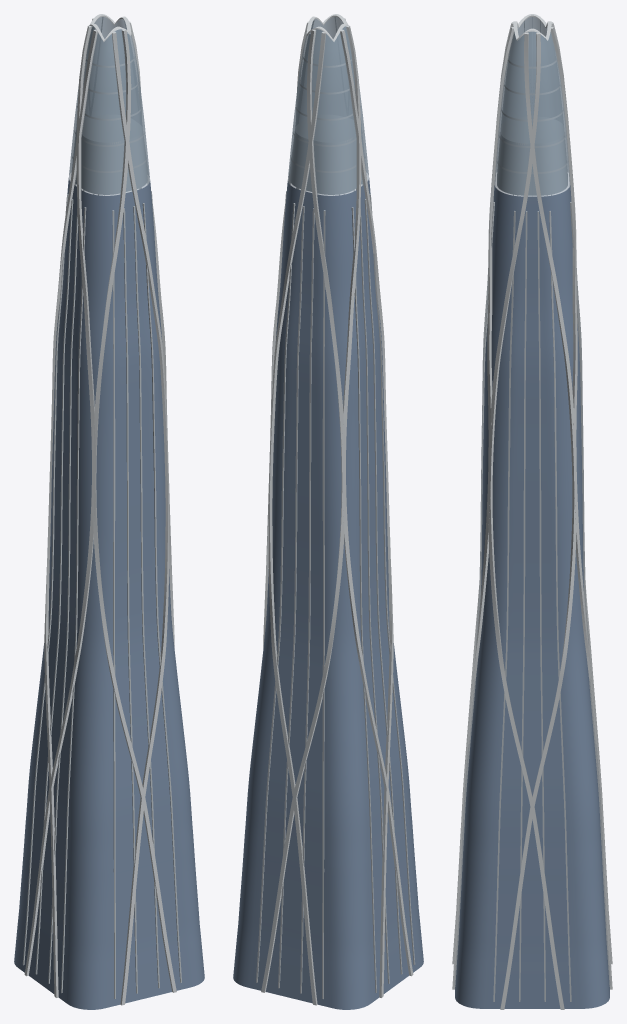
Rendered from tianjin-ctf-finance-centre.detail.glb.
3 renders of one model, left to right at view 1: azimuth 30°, elevation 25°; view 2: azimuth 150°, elevation 25°; view 3: azimuth 270°, elevation 25°, orthographic.
Visible parts, largest first — view 1: Tianjin CTF Finance Centre; view 2: Tianjin CTF Finance Centre; view 3: Tianjin CTF Finance Centre.
Boxes of the visible parts, left/top/right/bottom form: Tianjin CTF Finance Centre: left=14, top=14, right=204, bottom=1009; Tianjin CTF Finance Centre: left=233, top=14, right=423, bottom=1009; Tianjin CTF Finance Centre: left=452, top=14, right=612, bottom=1009.
Size of the model in its own units: 80.65 by 530 by 80.65.
